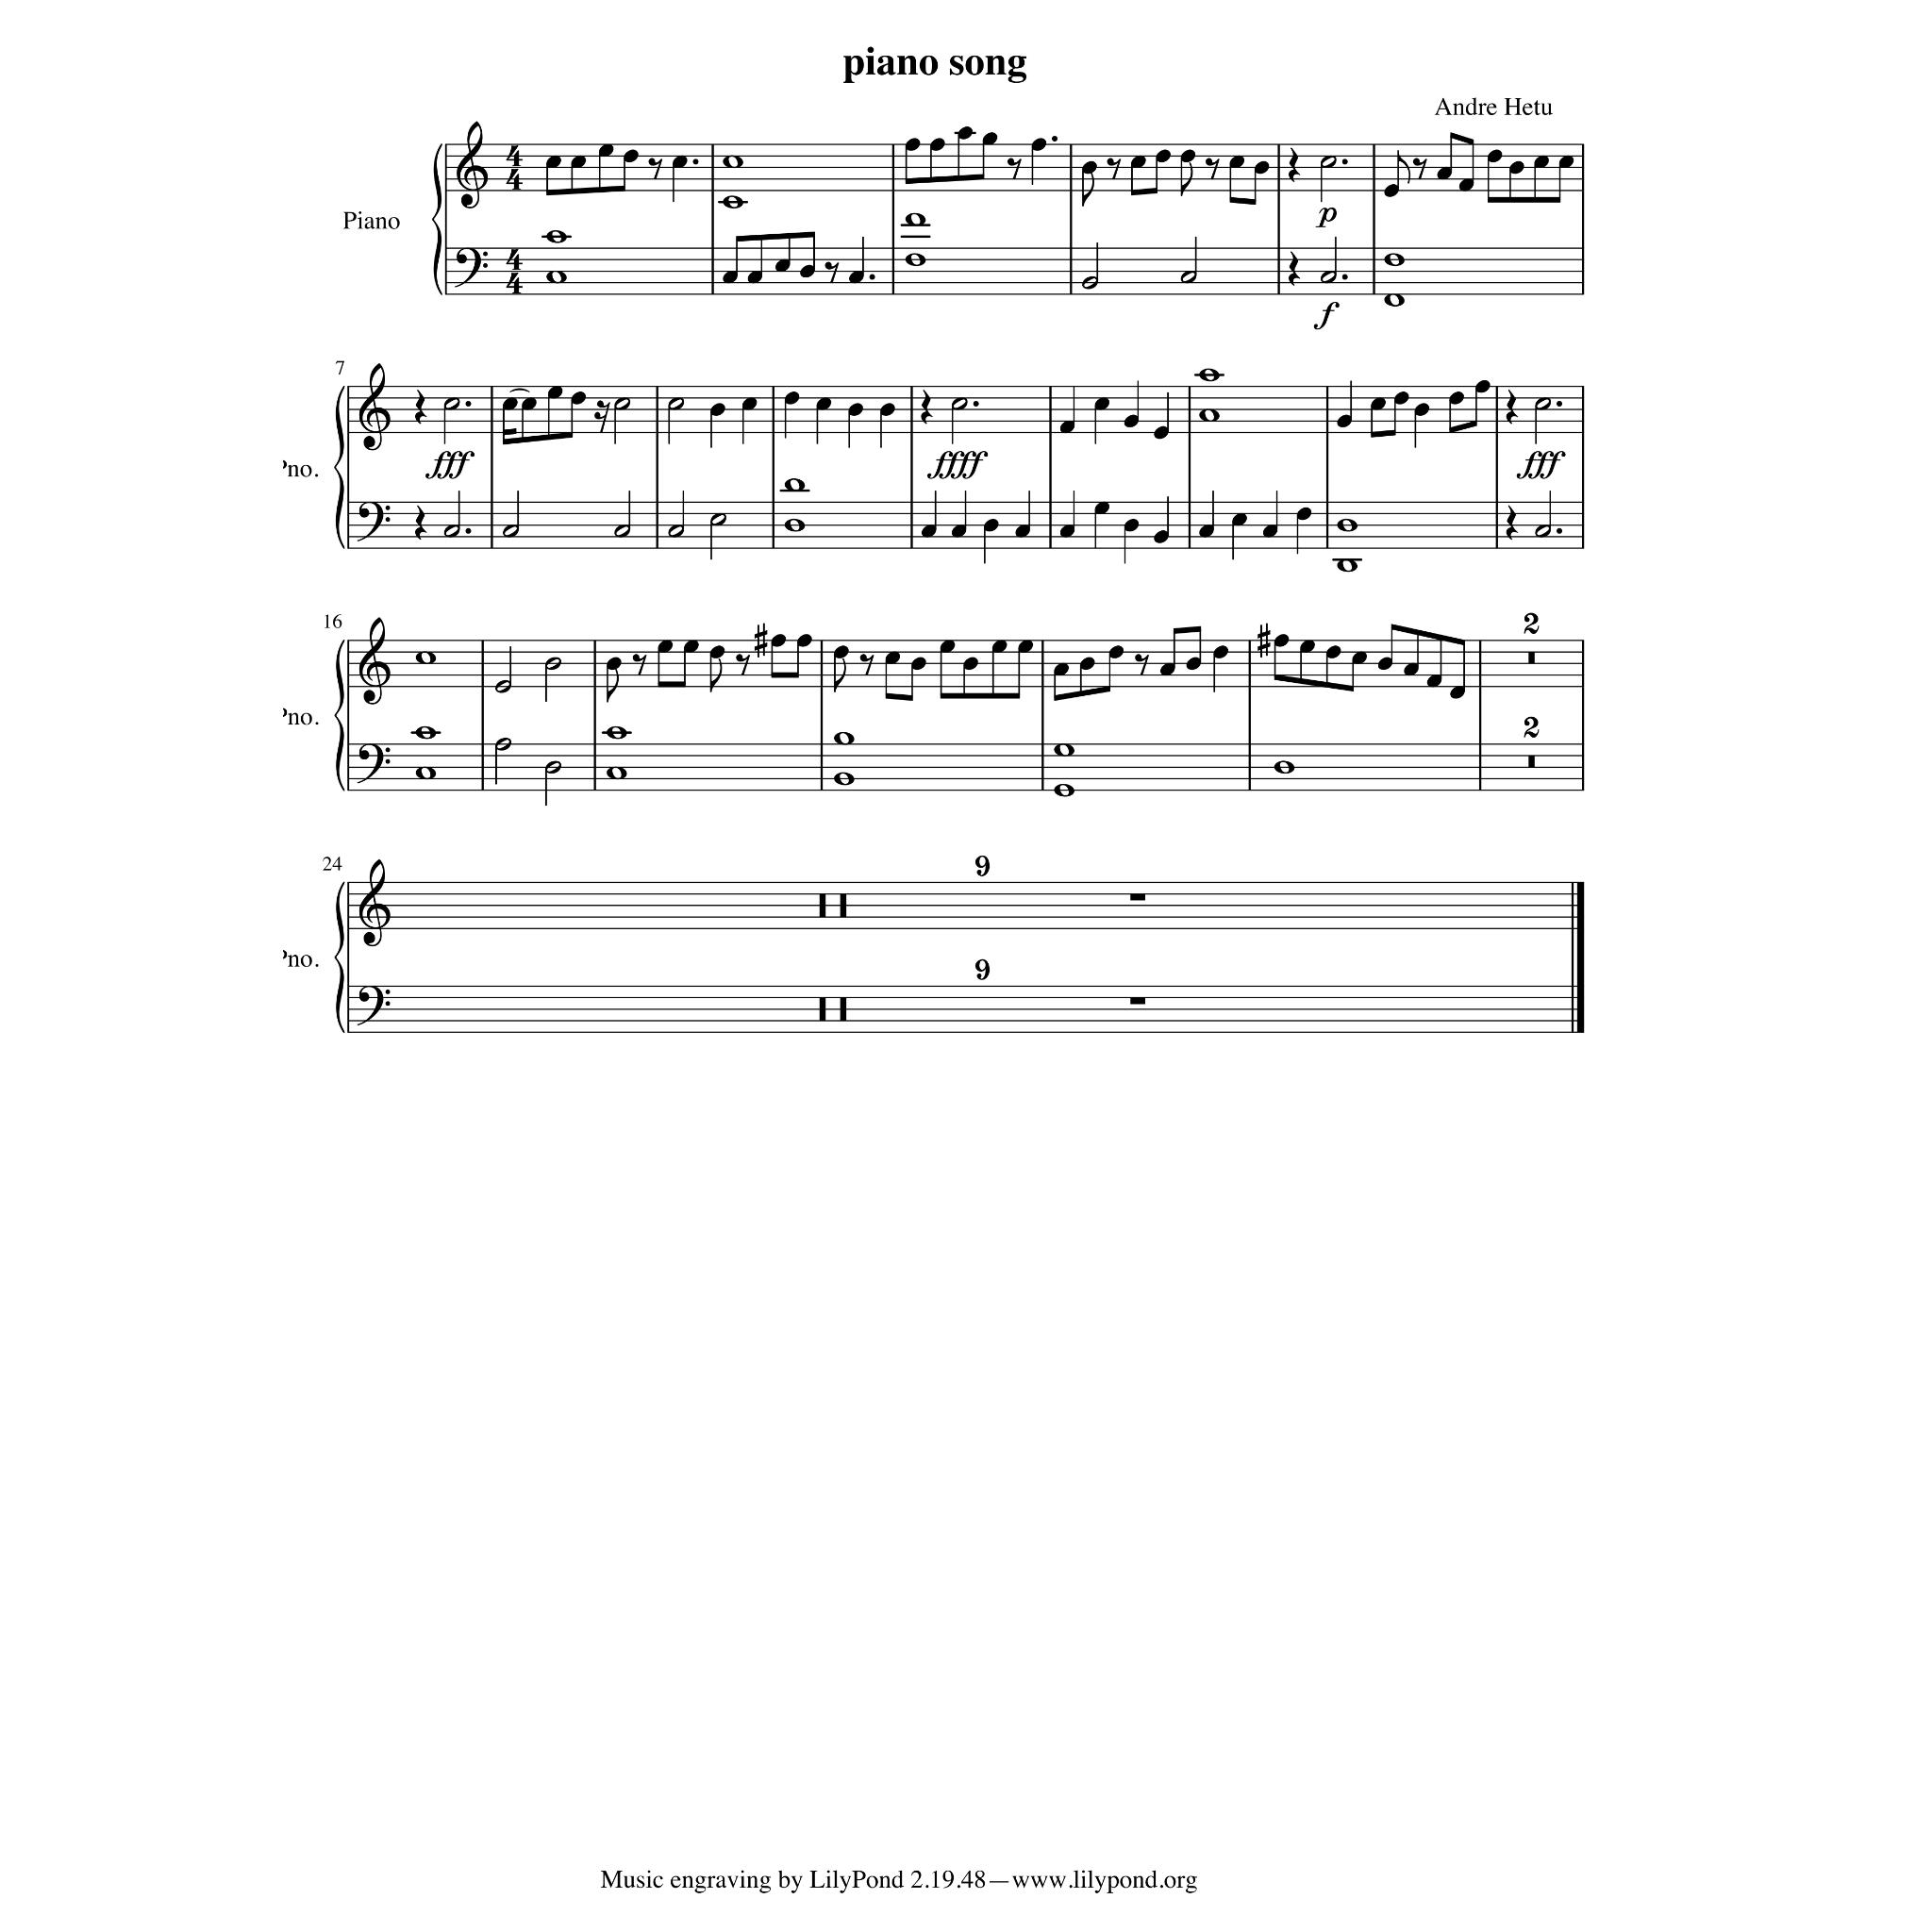brace: (333, 386, 344, 550), (431, 143, 442, 296), (333, 640, 344, 792), (333, 881, 344, 1034)
fClef: (454, 247, 488, 289), (357, 743, 391, 785), (357, 985, 391, 1026), (357, 502, 391, 541)
flag8thDown: (606, 669, 619, 703), (709, 658, 723, 692), (1083, 173, 1094, 207), (1181, 162, 1192, 196), (834, 658, 845, 692)
flag8thUp: (1397, 151, 1410, 185)
gClef: (456, 121, 488, 209), (358, 363, 391, 452), (358, 617, 391, 706), (358, 858, 391, 947)
noteheadBlack: (598, 143, 615, 158), (847, 270, 864, 285), (1474, 379, 1491, 394), (1108, 645, 1124, 660), (1324, 645, 1341, 660), (832, 645, 849, 660), (723, 270, 738, 285), (747, 270, 762, 285), (1213, 645, 1228, 660), (1426, 674, 1441, 689), (709, 645, 724, 660), (1253, 161, 1270, 175), (1228, 156, 1245, 169), (1155, 150, 1172, 163), (1383, 184, 1400, 197), (1436, 167, 1453, 180), (672, 156, 689, 169), (774, 259, 791, 273), (545, 156, 562, 169), (623, 150, 640, 163), (570, 156, 587, 169), (981, 133, 998, 146), (957, 126, 974, 140), (928, 139, 945, 152), (1081, 161, 1098, 175), (1030, 139, 1047, 152), (798, 265, 815, 278), (904, 139, 921, 152), (1198, 525, 1215, 538), (1058, 525, 1075, 538), (1058, 421, 1075, 434), (1123, 519, 1140, 532), (1123, 415, 1140, 428), (1336, 415, 1353, 428), (1413, 403, 1430, 416), (1370, 398, 1387, 411), (570, 391, 587, 405), (521, 398, 538, 411), (879, 403, 896, 416), (847, 403, 864, 416), (815, 398, 832, 411), (709, 403, 726, 416), (783, 391, 800, 405), (1158, 663, 1175, 676), (1185, 658, 1202, 671), (1017, 640, 1034, 653), (991, 640, 1008, 653), (962, 658, 979, 671), (1449, 686, 1466, 699), (1351, 652, 1368, 665), (606, 658, 623, 671), (770, 634, 787, 647), (657, 640, 674, 653), (1130, 156, 1145, 169), (1180, 150, 1195, 163), (1558, 156, 1574, 169), (1534, 156, 1549, 169), (1509, 161, 1524, 175), (1487, 150, 1502, 163), (1458, 178, 1474, 192), (1154, 530, 1169, 543), (1154, 426, 1169, 440), (1262, 525, 1277, 538), (1232, 513, 1247, 526), (1015, 525, 1030, 538), (983, 519, 998, 532), (1094, 502, 1109, 515), (1094, 398, 1109, 411), (1296, 508, 1311, 521), (1449, 391, 1464, 405), (1393, 391, 1408, 405), (547, 386, 562, 399), (502, 398, 517, 411), (951, 525, 966, 538), (921, 525, 936, 538), (741, 398, 757, 411), (1079, 658, 1094, 671), (1274, 634, 1289, 647), (1054, 663, 1069, 676), (940, 640, 955, 653), (1300, 640, 1315, 653), (1404, 663, 1419, 676), (1377, 658, 1392, 671), (796, 634, 811, 647), (911, 658, 926, 671), (885, 652, 900, 665), (683, 640, 698, 653)
noteheadHalf: (1320, 271, 1337, 284), (1320, 156, 1337, 169), (1180, 271, 1197, 284), (1081, 276, 1098, 290), (1534, 525, 1551, 538), (1534, 398, 1551, 411), (667, 525, 684, 538), (613, 525, 630, 538), (613, 398, 630, 411), (502, 525, 519, 538), (667, 398, 684, 411), (443, 525, 460, 538), (443, 398, 460, 411), (951, 398, 968, 411), (709, 513, 726, 526), (544, 658, 561, 671), (544, 761, 561, 774), (494, 738, 511, 751), (494, 680, 511, 693)
noteheadWhole: (1383, 253, 1406, 268), (545, 270, 568, 285), (904, 253, 926, 268), (1198, 368, 1221, 383), (1336, 558, 1358, 574), (783, 477, 806, 492), (1053, 783, 1075, 798), (832, 772, 855, 787), (723, 155, 743, 170), (1274, 760, 1294, 775), (1383, 294, 1406, 308), (545, 230, 568, 243), (904, 213, 926, 226), (1198, 409, 1221, 423), (1336, 519, 1358, 532), (783, 519, 806, 532), (1053, 743, 1075, 757), (832, 732, 855, 745), (723, 196, 743, 209), (606, 726, 626, 740), (606, 767, 626, 780), (415, 726, 436, 740), (415, 767, 436, 780), (415, 652, 436, 665)
rest16th: (593, 400, 610, 434)
rest8th: (1106, 158, 1121, 181), (1205, 158, 1220, 181), (1412, 158, 1427, 181), (647, 158, 662, 181), (1007, 158, 1022, 181), (824, 261, 840, 284), (1134, 654, 1149, 676), (632, 654, 647, 676), (859, 654, 874, 676), (735, 654, 750, 676)
restHNr: (1523, 715, 1540, 740), (1523, 611, 1540, 636), (974, 958, 991, 982), (974, 855, 991, 877)
restQuarter: (1506, 505, 1519, 541), (1506, 390, 1519, 425), (1289, 251, 1300, 287), (1289, 147, 1300, 183), (415, 505, 426, 541), (415, 390, 426, 425), (921, 390, 932, 425)
restWhole: (819, 893, 1145, 918), (819, 998, 1145, 1021), (1527, 755, 1535, 768), (1527, 653, 1535, 664)
